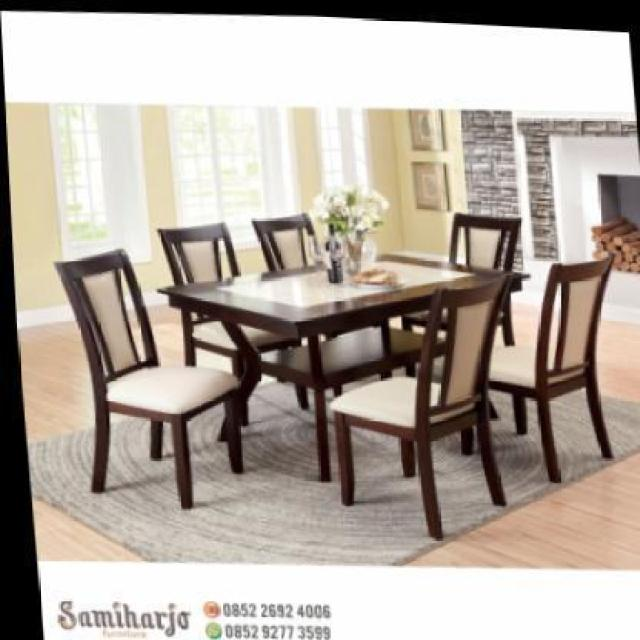tables: (156, 249, 530, 482)
